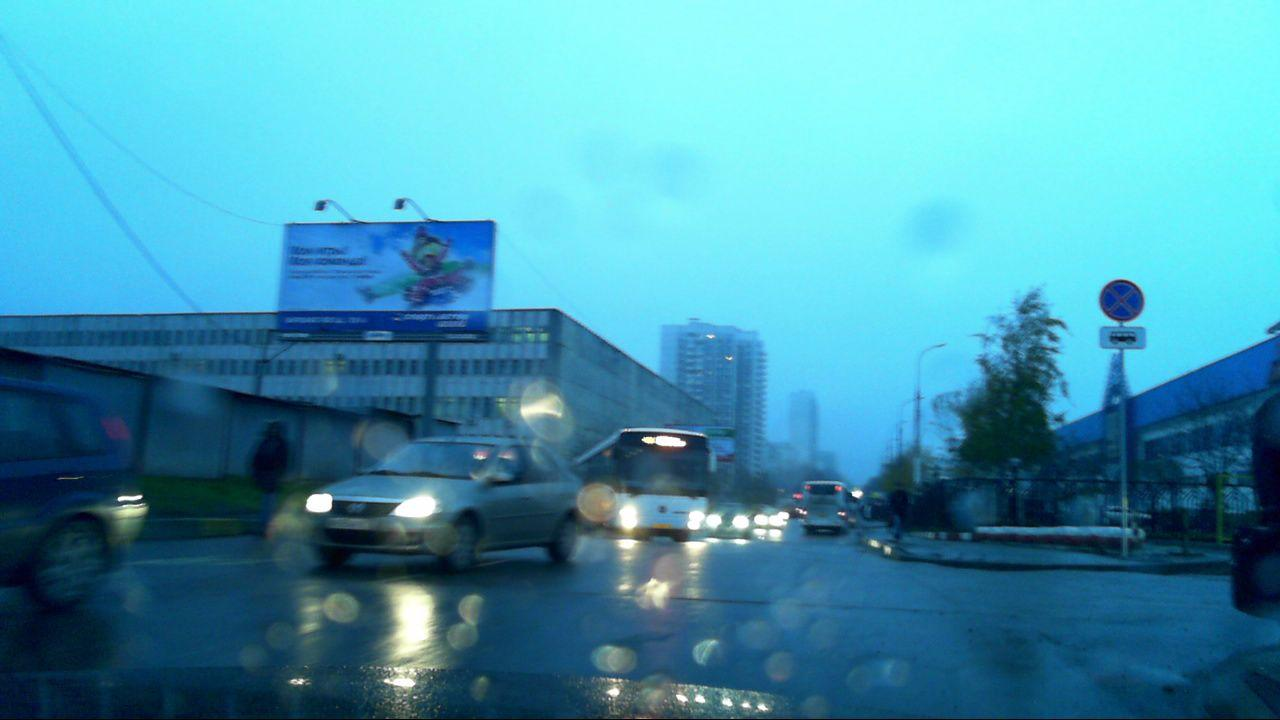3_27: (1097, 274, 1147, 324)
8_4_4: (1100, 328, 1149, 348)
